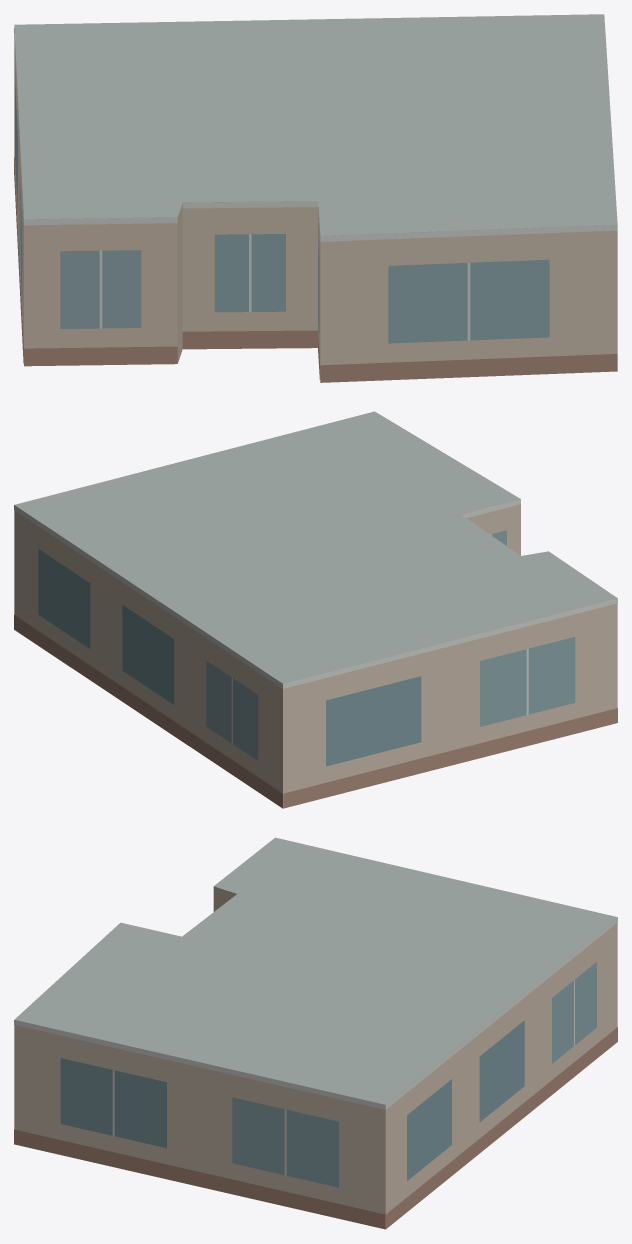
File: survey-upis-32641276.glb
The picture shows the model from 3 angles, top to bottom: view 1: azimuth 30°, elevation 25°; view 2: azimuth 150°, elevation 25°; view 3: azimuth 270°, elevation 25°; orthographic projection. The views are drawn at different scales.
Parts seen in each view (by area): view 1: survey-upis-32641276.tmp; view 2: survey-upis-32641276.tmp; view 3: survey-upis-32641276.tmp.
Boxes of the visible parts, box(x1,y1,x2,y2) form: survey-upis-32641276.tmp: box(14, 14, 617, 382); survey-upis-32641276.tmp: box(14, 411, 617, 808); survey-upis-32641276.tmp: box(14, 837, 617, 1229).
Bounding box in the file's own units: 14.04 × 3.05 × 13.4.
